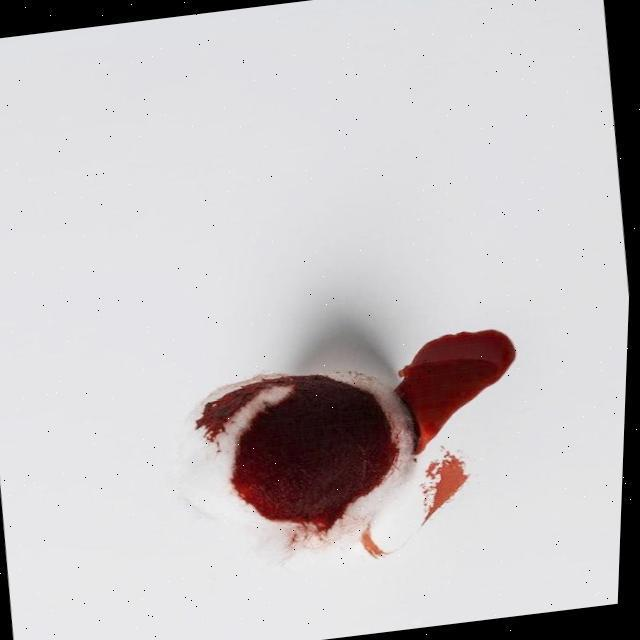knife: (198, 372, 392, 533), (396, 326, 514, 456), (423, 453, 469, 526)
